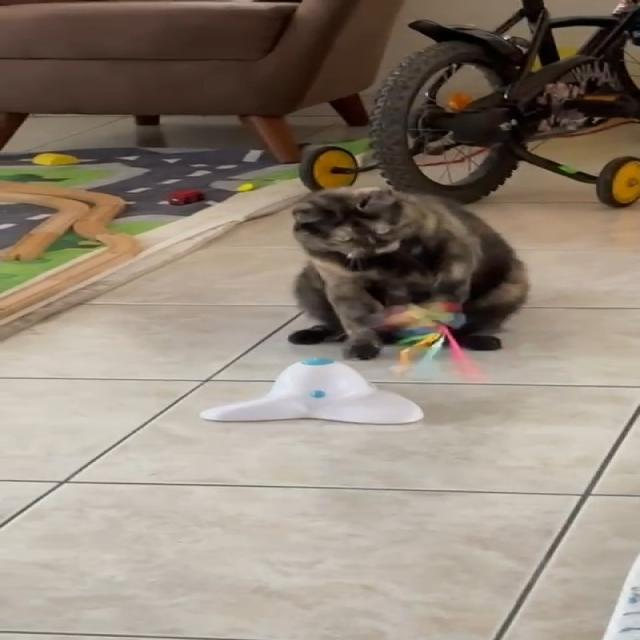authorized: (287, 185, 529, 360)
